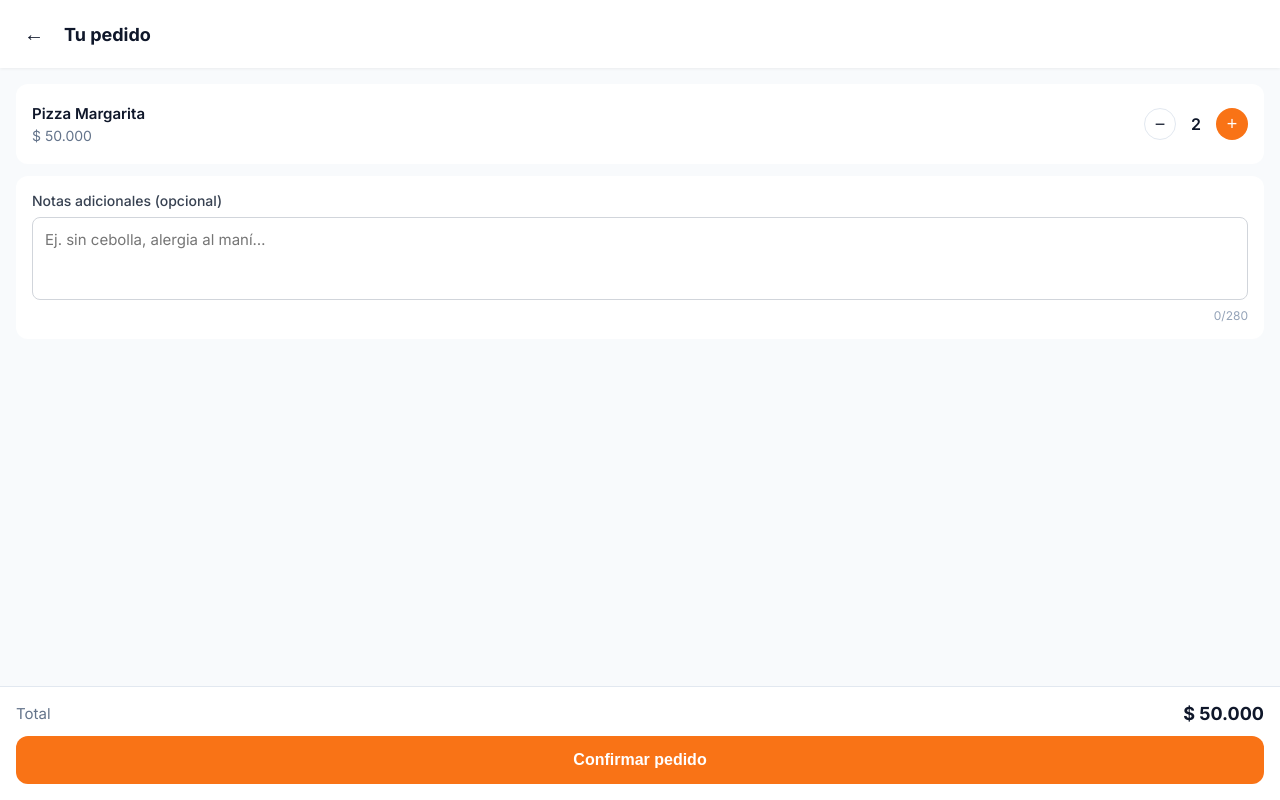
Test: CartReview › quantity stepper reduces item quantity
Click the button named "Reducir cantidad de Pizza Margarita".
click(1160, 124)  # box [1144, 108, 1176, 140]
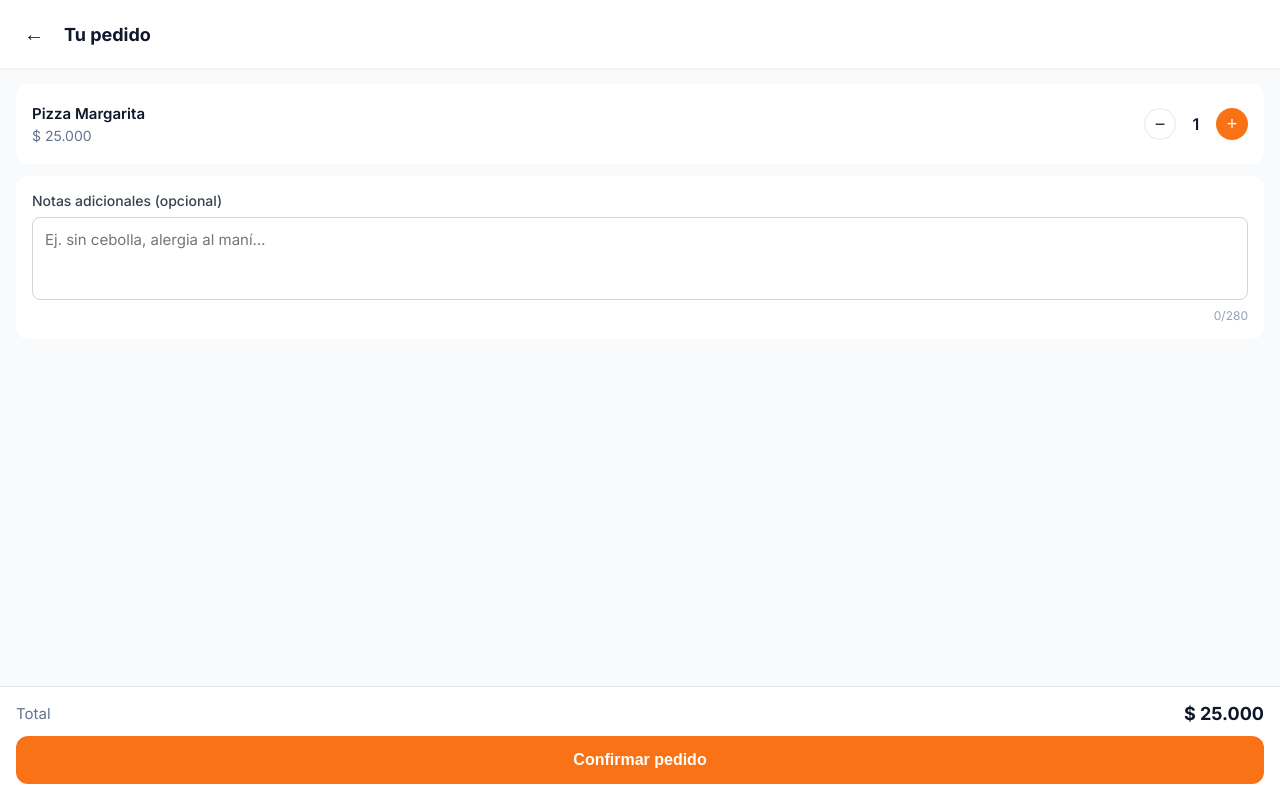
expect the text named "Cantidad de Pizza Margarita: 1" is shown: met, box [1193, 114, 1199, 134]
